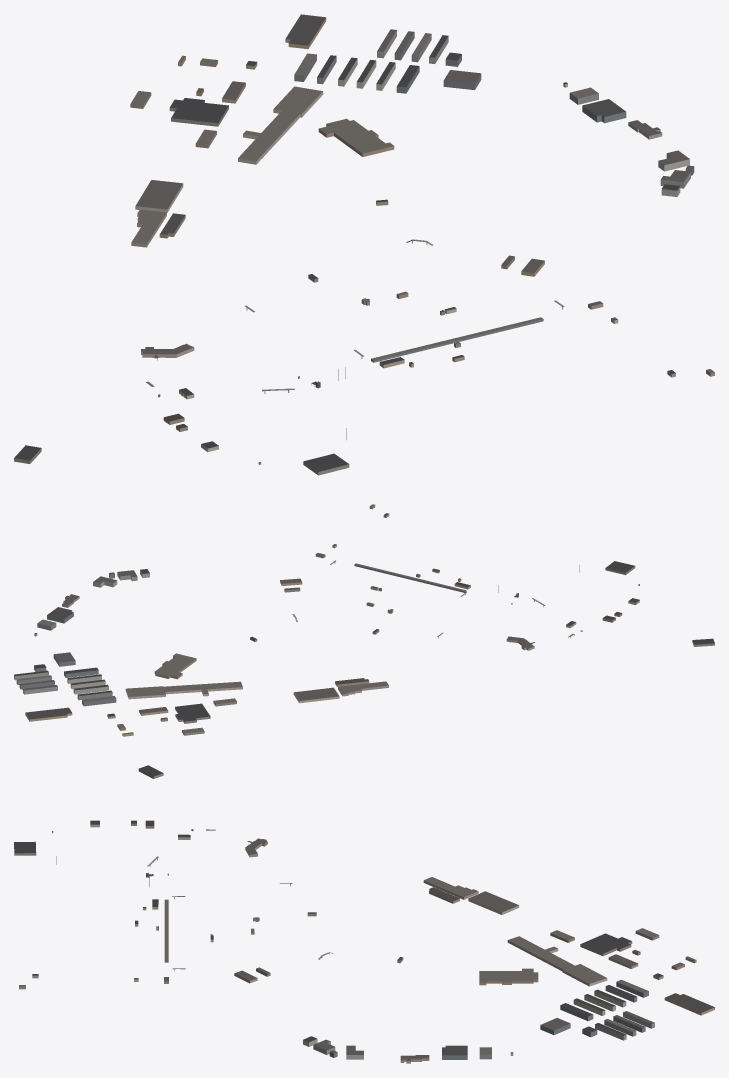
File: scenery.glb
3 views of the same model, one above another, from view 1: azimuth 30°, elevation 25°; view 2: azimuth 150°, elevation 25°; view 3: azimuth 270°, elevation 25° (orthographic). The views are drawn at different scales.
Visible parts, largest first — view 1: chunk_15_13, chunk_16_13, chunk_16_14, chunk_14_13, chunk_14_16, chunk_15_12, chunk_14_14; view 2: chunk_15_13, chunk_16_13, chunk_16_14, chunk_14_13, chunk_14_14, chunk_15_12, chunk_14_16; view 3: chunk_15_13, chunk_16_13, chunk_16_14, chunk_14_13, chunk_14_14, chunk_15_12, chunk_14_16.
Boxes of the visible parts, left/top/right/bottom form: chunk_15_13: left=169, top=53, right=394, bottom=164; chunk_16_13: left=376, top=29, right=567, bottom=93; chunk_16_14: left=569, top=87, right=689, bottom=171; chunk_14_13: left=135, top=129, right=216, bottom=212; chunk_14_16: left=338, top=317, right=543, bottom=380; chunk_15_12: left=178, top=14, right=326, bottom=69; chunk_14_14: left=131, top=209, right=185, bottom=247; chunk_15_13: left=70, top=653, right=242, bottom=723; chunk_16_13: left=14, top=633, right=101, bottom=694; chunk_16_14: left=37, top=576, right=117, bottom=630; chunk_14_13: left=213, top=687, right=339, bottom=706; chunk_14_14: left=335, top=678, right=388, bottom=696; chunk_15_12: left=25, top=707, right=133, bottom=736; chunk_14_16: left=354, top=563, right=498, bottom=596; chunk_15_13: left=479, top=933, right=648, bottom=1011; chunk_16_13: left=510, top=998, right=654, bottom=1055; chunk_16_14: left=346, top=1045, right=491, bottom=1063; chunk_14_13: left=468, top=891, right=574, bottom=942; chunk_14_14: left=423, top=877, right=478, bottom=903; chunk_15_12: left=653, top=956, right=714, bottom=1015; chunk_14_16: left=135, top=876, right=185, bottom=962.
Size of the model in its own units: 1835 by 28.33 by 1835.
